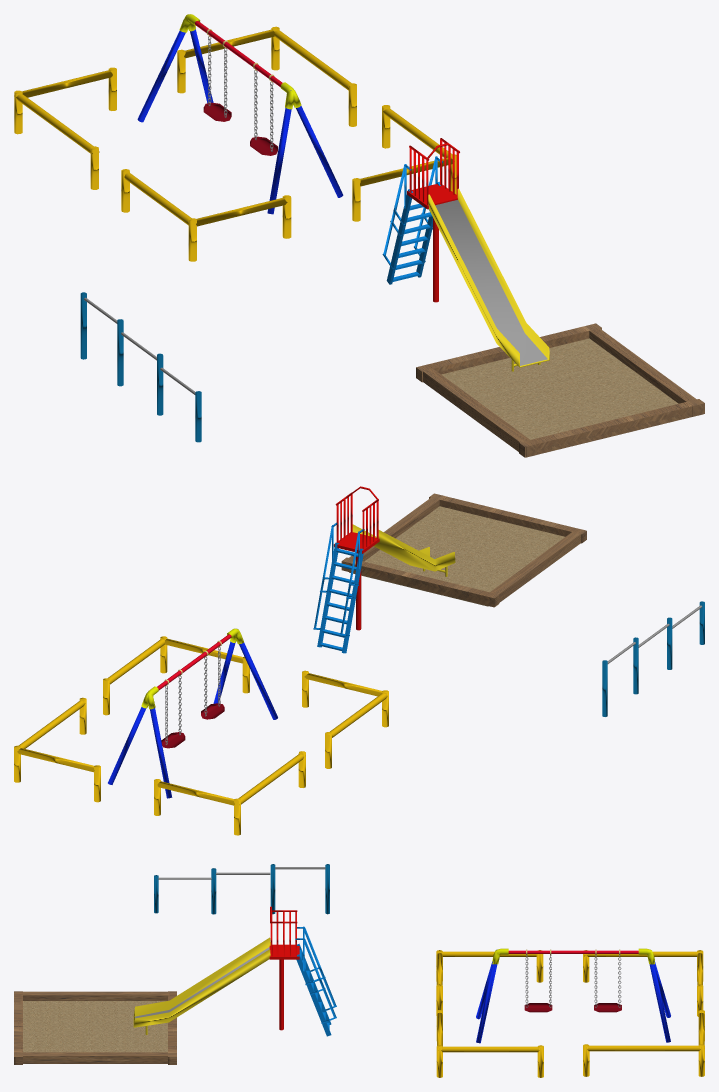
3 views of the same model, one above another, from view 1: azimuth 30°, elevation 25°; view 2: azimuth 150°, elevation 25°; view 3: azimuth 270°, elevation 25° (orthographic). The views are drawn at different scales.
Parts seen in each view (by area): view 1: Cylinder.002, Cube.005, Cylinder.009, Cube.003, Cylinder.012; view 2: Cylinder.002, Cube.005, Cube.003, Cylinder.009, Cylinder.012; view 3: Cylinder.002, Cube.005, Cylinder.009, Cube.003, Cylinder.012.
Boxes of the visible parts, x1,y1,x2,y2 form: Cylinder.002: (14, 14, 456, 261); Cube.005: (441, 338, 678, 439); Cylinder.009: (382, 138, 549, 367); Cube.003: (416, 323, 704, 457); Cylinder.012: (80, 292, 201, 442); Cylinder.002: (14, 628, 388, 835); Cube.005: (349, 506, 564, 606); Cube.003: (341, 493, 586, 607); Cylinder.009: (313, 486, 455, 653); Cylinder.012: (602, 601, 704, 716); Cylinder.002: (436, 948, 704, 1077); Cube.005: (23, 1001, 167, 1052); Cylinder.009: (133, 906, 336, 1036); Cube.003: (14, 991, 176, 1064); Cylinder.012: (154, 864, 329, 914).
Bounding box in the file's own units: 3213 × 1136 × 5700.
27 materials, 2 textured.
